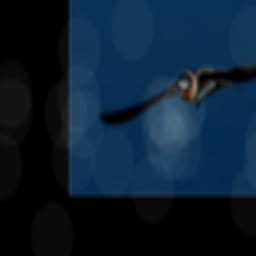Swallow: (98, 51, 256, 122)
